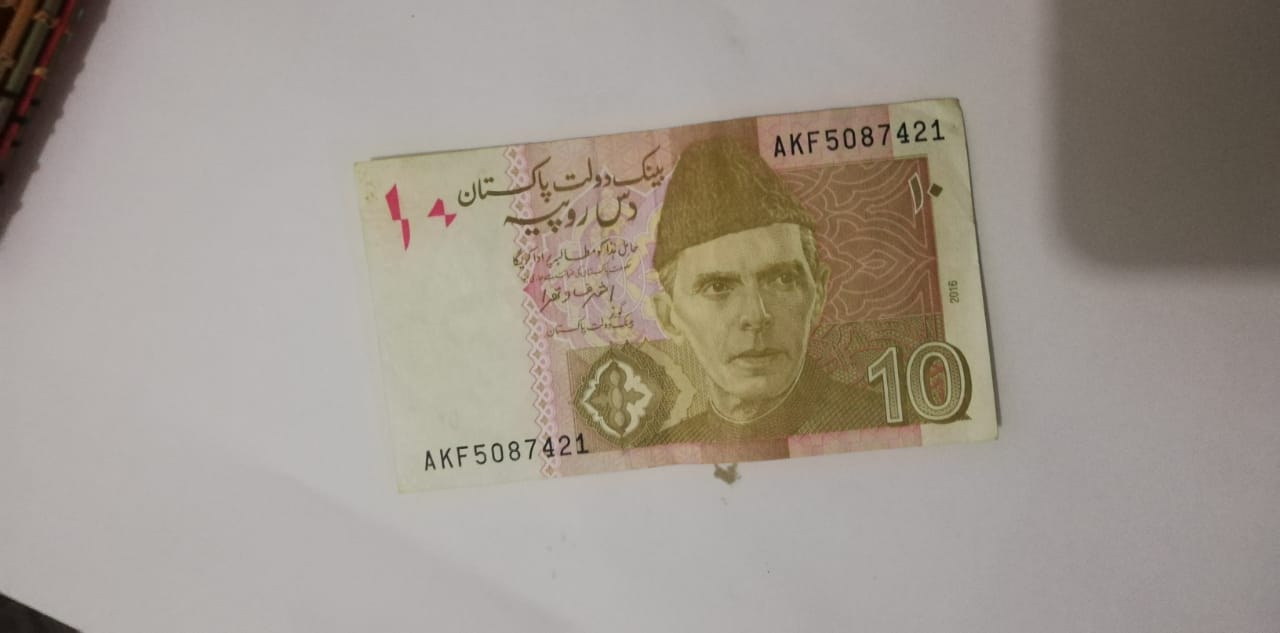10 rupee: (336, 86, 1023, 471)
